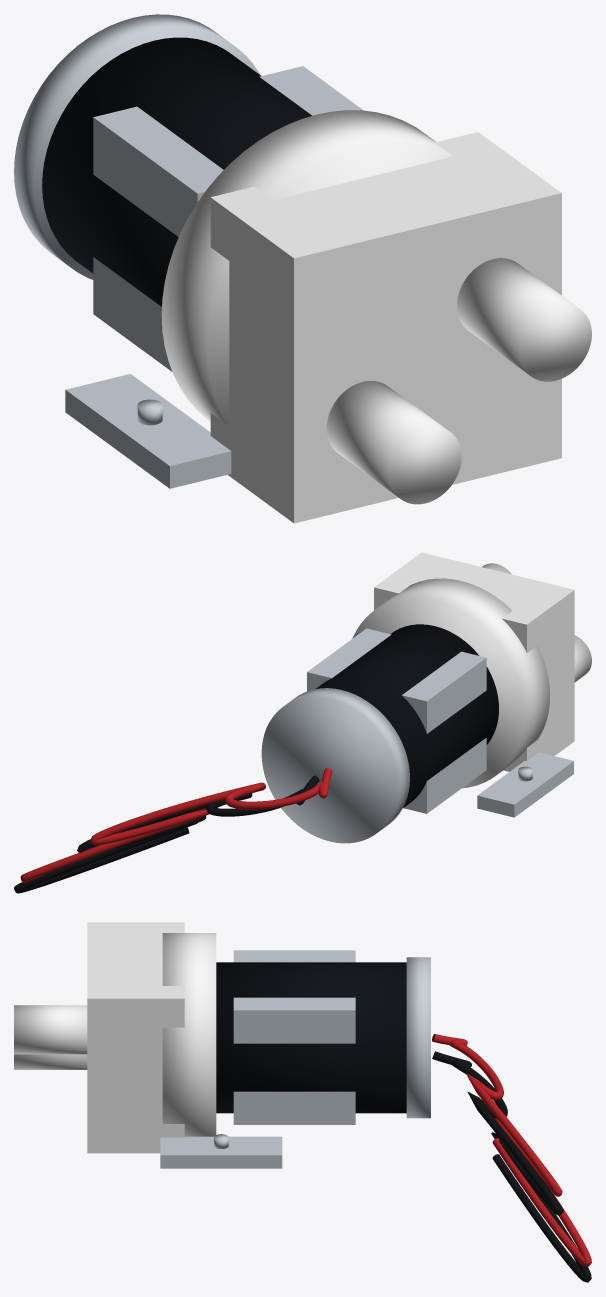
Rendered from bomba.glb.
The picture shows the model from 3 angles, top to bottom: view 1: azimuth 30°, elevation 25°; view 2: azimuth 150°, elevation 25°; view 3: azimuth 270°, elevation 25°; orthographic projection. The views are drawn at different scales.
Visible parts, largest first — view 1: WaterPump_Head, WaterPump_Motor, WaterPump_Diaphragm, WaterPump_Motor_Band, WaterPump_Inlet, WaterPump_Outlet, WaterPump_Motor_EndCap, WaterPump_Mount_01; view 2: WaterPump_Motor_EndCap, WaterPump_Diaphragm, WaterPump_Motor, WaterPump_Head, WaterPump_Motor_Band, WaterPump_Wire_Red, WaterPump_Wire_Black, WaterPump_Mount_01, WaterPump_Inlet; view 3: WaterPump_Motor, WaterPump_Head, WaterPump_Motor_Band, WaterPump_Diaphragm, WaterPump_Wire_Red, WaterPump_Wire_Black, WaterPump_Motor_EndCap, WaterPump_Mount_02, WaterPump_Outlet, WaterPump_Inlet.
Part boxes in pixels (bbox=[...]): WaterPump_Head: bbox=[210, 132, 561, 523]; WaterPump_Motor: bbox=[42, 37, 312, 306]; WaterPump_Diaphragm: bbox=[161, 110, 452, 425]; WaterPump_Motor_Band: bbox=[93, 66, 363, 371]; WaterPump_Inlet: bbox=[326, 380, 461, 504]; WaterPump_Outlet: bbox=[457, 258, 591, 381]; WaterPump_Motor_EndCap: bbox=[14, 14, 260, 279]; WaterPump_Mount_01: bbox=[65, 374, 231, 488]; WaterPump_Motor_EndCap: bbox=[261, 688, 409, 843]; WaterPump_Diaphragm: bbox=[352, 578, 550, 788]; WaterPump_Motor: bbox=[316, 624, 498, 807]; WaterPump_Head: bbox=[374, 552, 574, 771]; WaterPump_Motor_Band: bbox=[307, 628, 486, 813]; WaterPump_Wire_Red: bbox=[20, 768, 332, 882]; WaterPump_Wire_Black: bbox=[14, 775, 319, 893]; WaterPump_Mount_01: bbox=[477, 752, 573, 817]; WaterPump_Inlet: bbox=[574, 635, 591, 682]; WaterPump_Motor: bbox=[216, 962, 406, 1113]; WaterPump_Head: bbox=[87, 922, 184, 1153]; WaterPump_Motor_Band: bbox=[233, 950, 355, 1124]; WaterPump_Diaphragm: bbox=[162, 933, 216, 1136]; WaterPump_Wire_Red: bbox=[432, 1034, 591, 1266]; WaterPump_Wire_Black: bbox=[432, 1051, 591, 1282]; WaterPump_Motor_EndCap: bbox=[406, 957, 430, 1118]; WaterPump_Mount_02: bbox=[160, 1136, 282, 1168]; WaterPump_Outlet: bbox=[14, 1005, 87, 1054]; WaterPump_Inlet: bbox=[14, 1054, 87, 1069].
Size of the model in its own units: 0.1152 by 0.0683 by 0.1611.
